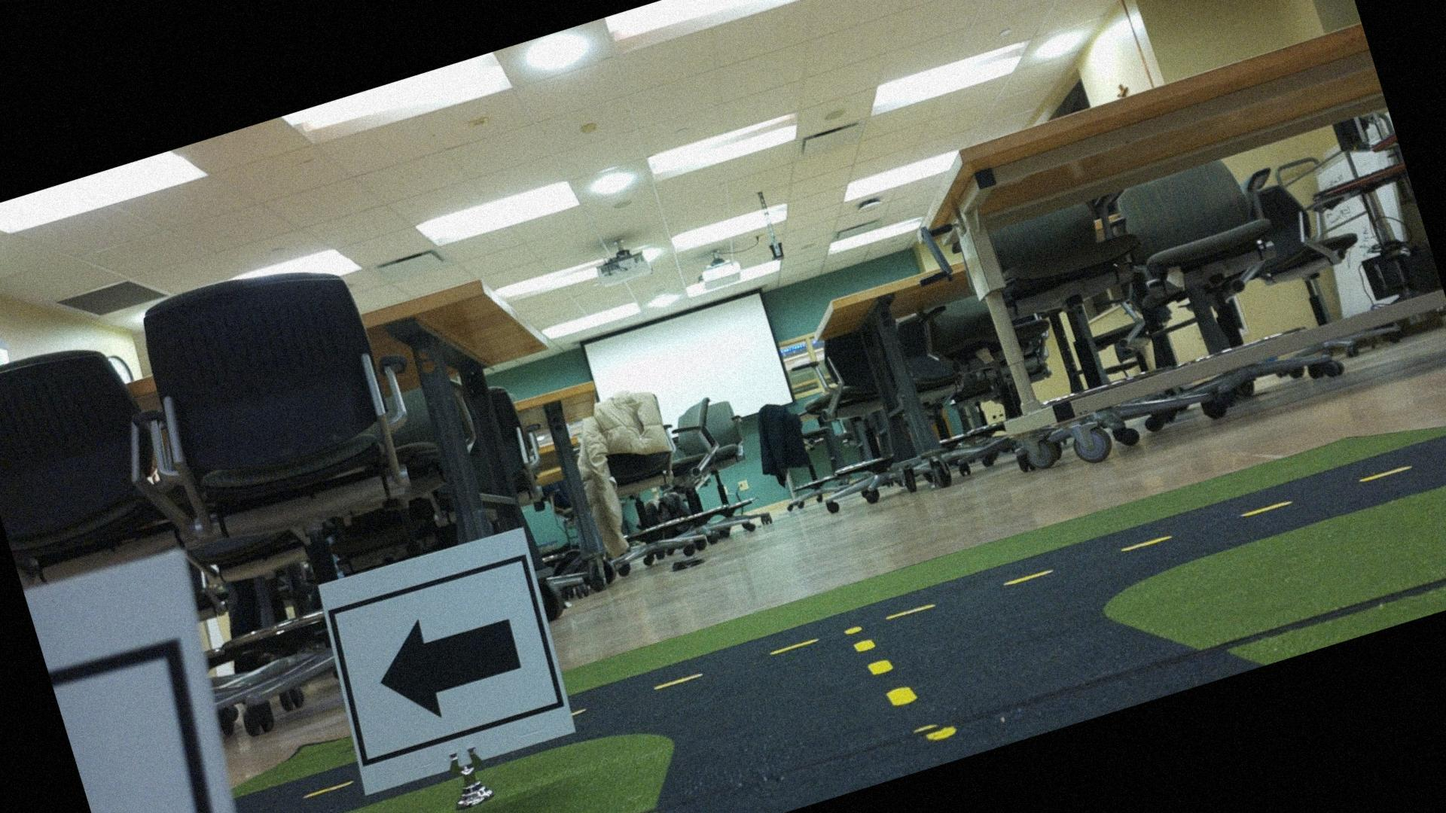turnleft: (315, 534, 573, 790)
yellowline: (655, 452, 1415, 699), (839, 607, 918, 717)
